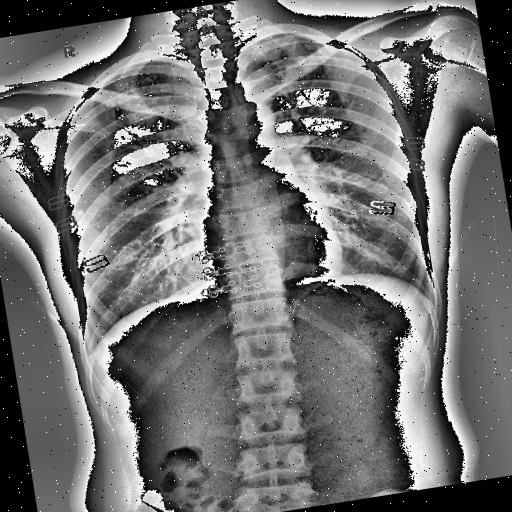13- Pulmonary fibrosis: (250, 26, 332, 93), (104, 61, 174, 122)
6- Infiltration: (249, 25, 349, 100), (107, 54, 193, 132), (250, 26, 332, 93), (104, 61, 174, 122), (256, 32, 330, 83), (107, 60, 178, 106)
7- Lung Opacity: (249, 25, 349, 100), (107, 54, 193, 132)
